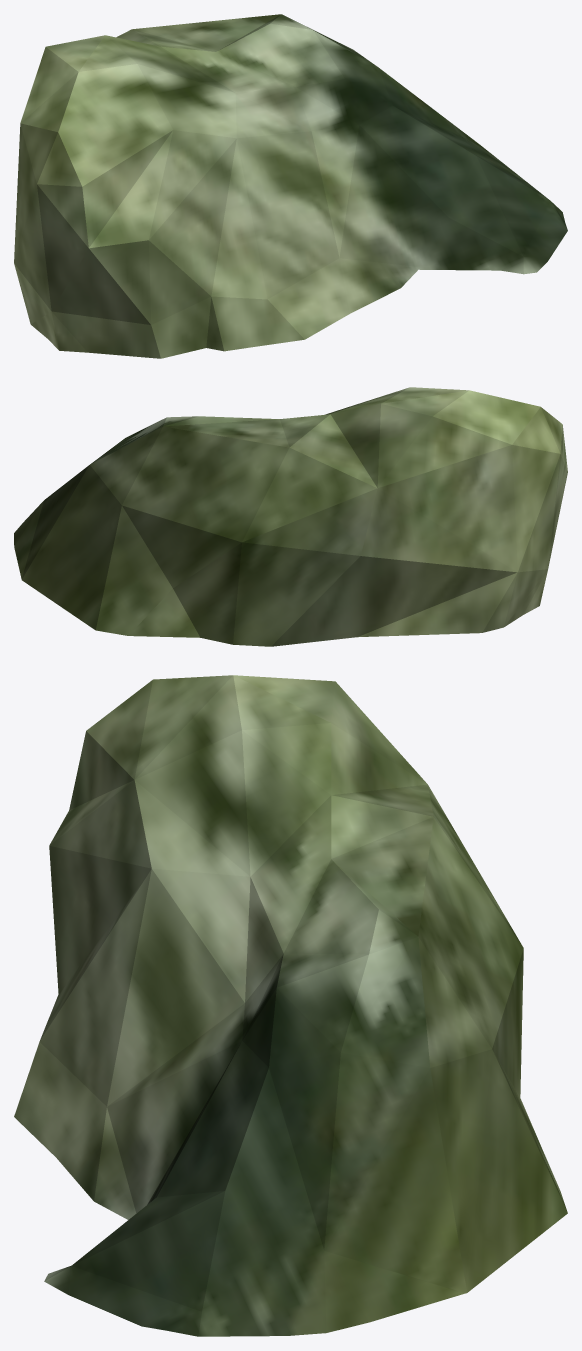
3 renders of one model, top to bottom at view 1: azimuth 30°, elevation 25°; view 2: azimuth 150°, elevation 25°; view 3: azimuth 270°, elevation 25°, orthographic. The views are drawn at different scales.
Size of the model in its own units: 1.48 by 0.6425 by 0.9439.
1 material, 1 textured.
